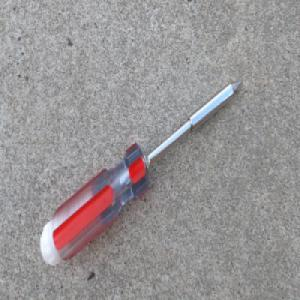Screwdriver: (39, 75, 245, 268)
